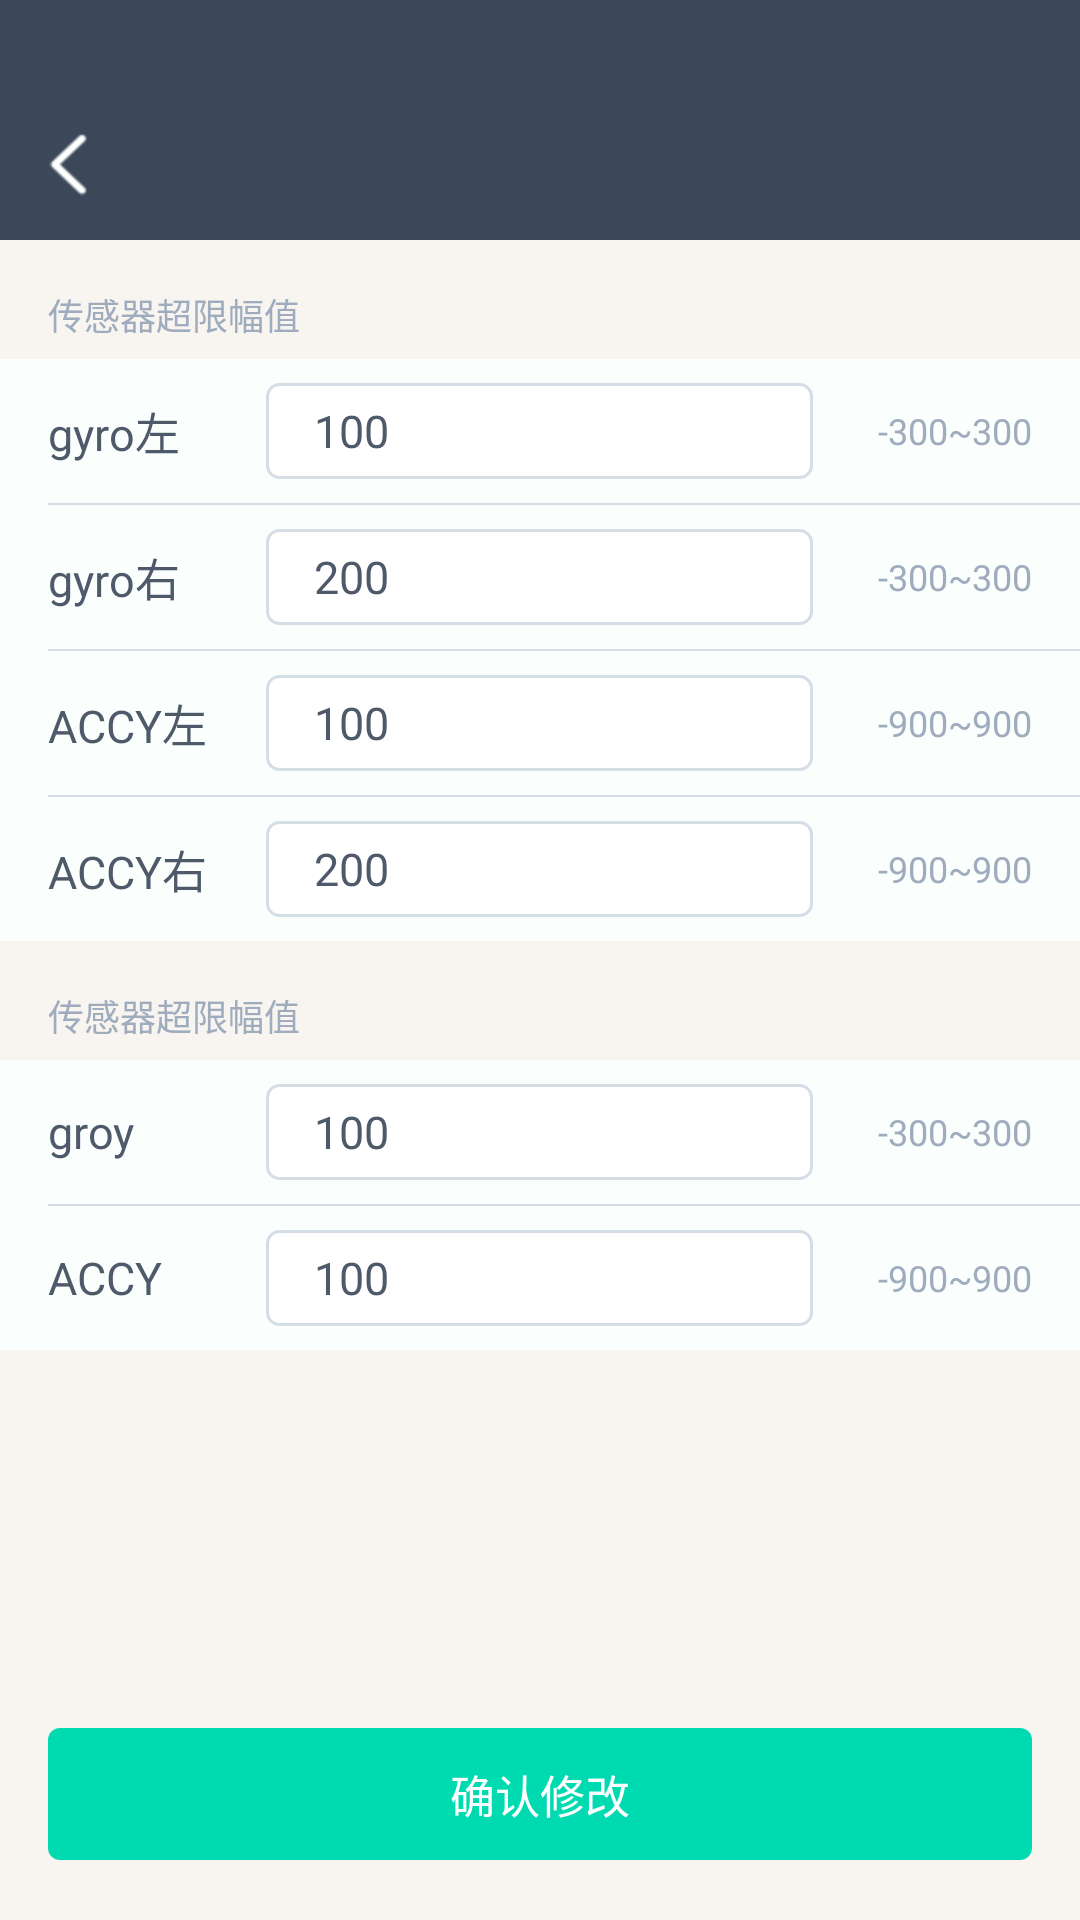

Named icons in this screenshot (1080 x 1920) and their centers, point (x, y):
back: point (68, 164)
